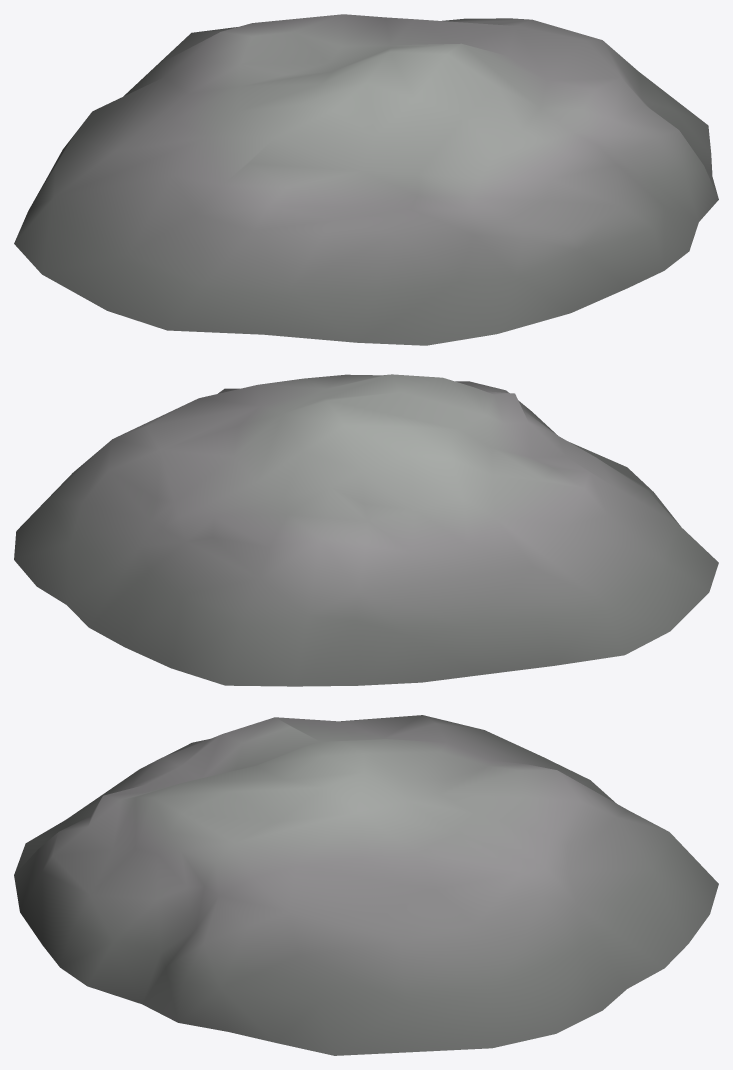
The model's file is Rock_4.fbx.
The picture shows the model from 3 angles, top to bottom: view 1: azimuth 30°, elevation 25°; view 2: azimuth 150°, elevation 25°; view 3: azimuth 270°, elevation 25°; orthographic projection. The views are drawn at different scales.
Visible parts, largest first — view 1: Rock_4; view 2: Rock_4; view 3: Rock_4.
Boxes of the visible parts, x1=… form: Rock_4: x1=14, y1=14, x2=718, y2=345; Rock_4: x1=14, y1=374, x2=718, y2=686; Rock_4: x1=14, y1=715, x2=718, y2=1055.
Bounding box in the file's own units: 722 × 148 × 678.
